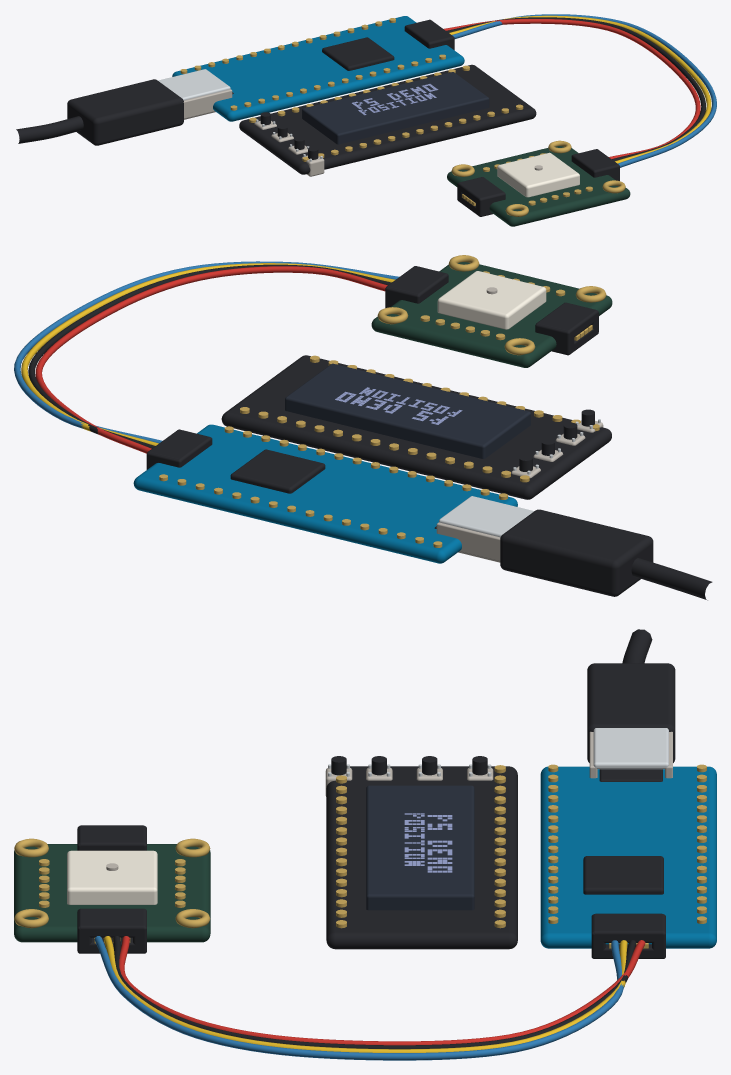
Rendered from sensors-18.glb.
The picture shows the model from 3 angles, top to bottom: view 1: azimuth 30°, elevation 25°; view 2: azimuth 150°, elevation 25°; view 3: azimuth 270°, elevation 25°; orthographic projection. The views are drawn at different scales.
Parts seen in each view (by area): view 1: display, host, usb, module, cable, patch, gps-socket; view 2: display, host, usb, module, cable, patch, gps-socket; view 3: display, host, cable, module, usb, patch, gps-socket.
Part boxes in pixels (left/top/right/bottom): display: left=239, top=64, right=536, bottom=176; host: left=172, top=16, right=464, bottom=121; usb: left=16, top=69, right=233, bottom=145; module: left=447, top=140, right=630, bottom=226; cable: left=444, top=14, right=716, bottom=167; patch: left=497, top=152, right=579, bottom=197; gps-socket: left=457, top=149, right=619, bottom=216; display: left=221, top=355, right=611, bottom=499; host: left=133, top=424, right=517, bottom=563; usb: left=434, top=496, right=712, bottom=600; module: left=371, top=255, right=612, bottom=367; cable: left=14, top=261, right=399, bottom=453; patch: left=437, top=271, right=546, bottom=329; gps-socket: left=385, top=266, right=598, bottom=355; display: left=325, top=756, right=517, bottom=949; host: left=540, top=764, right=716, bottom=958; cable: left=94, top=936, right=645, bottom=1060; module: left=14, top=838, right=210, bottom=942; usb: left=587, top=629, right=675, bottom=781; patch: left=67, top=850, right=157, bottom=904; gps-socket: left=77, top=825, right=146, bottom=953.
Size of the model in its own units: 3.98 by 0.187 by 2.79.
